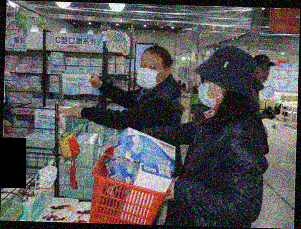with_mask: (135, 58, 165, 91), (197, 76, 220, 110)
without_mask: (254, 63, 271, 84)
